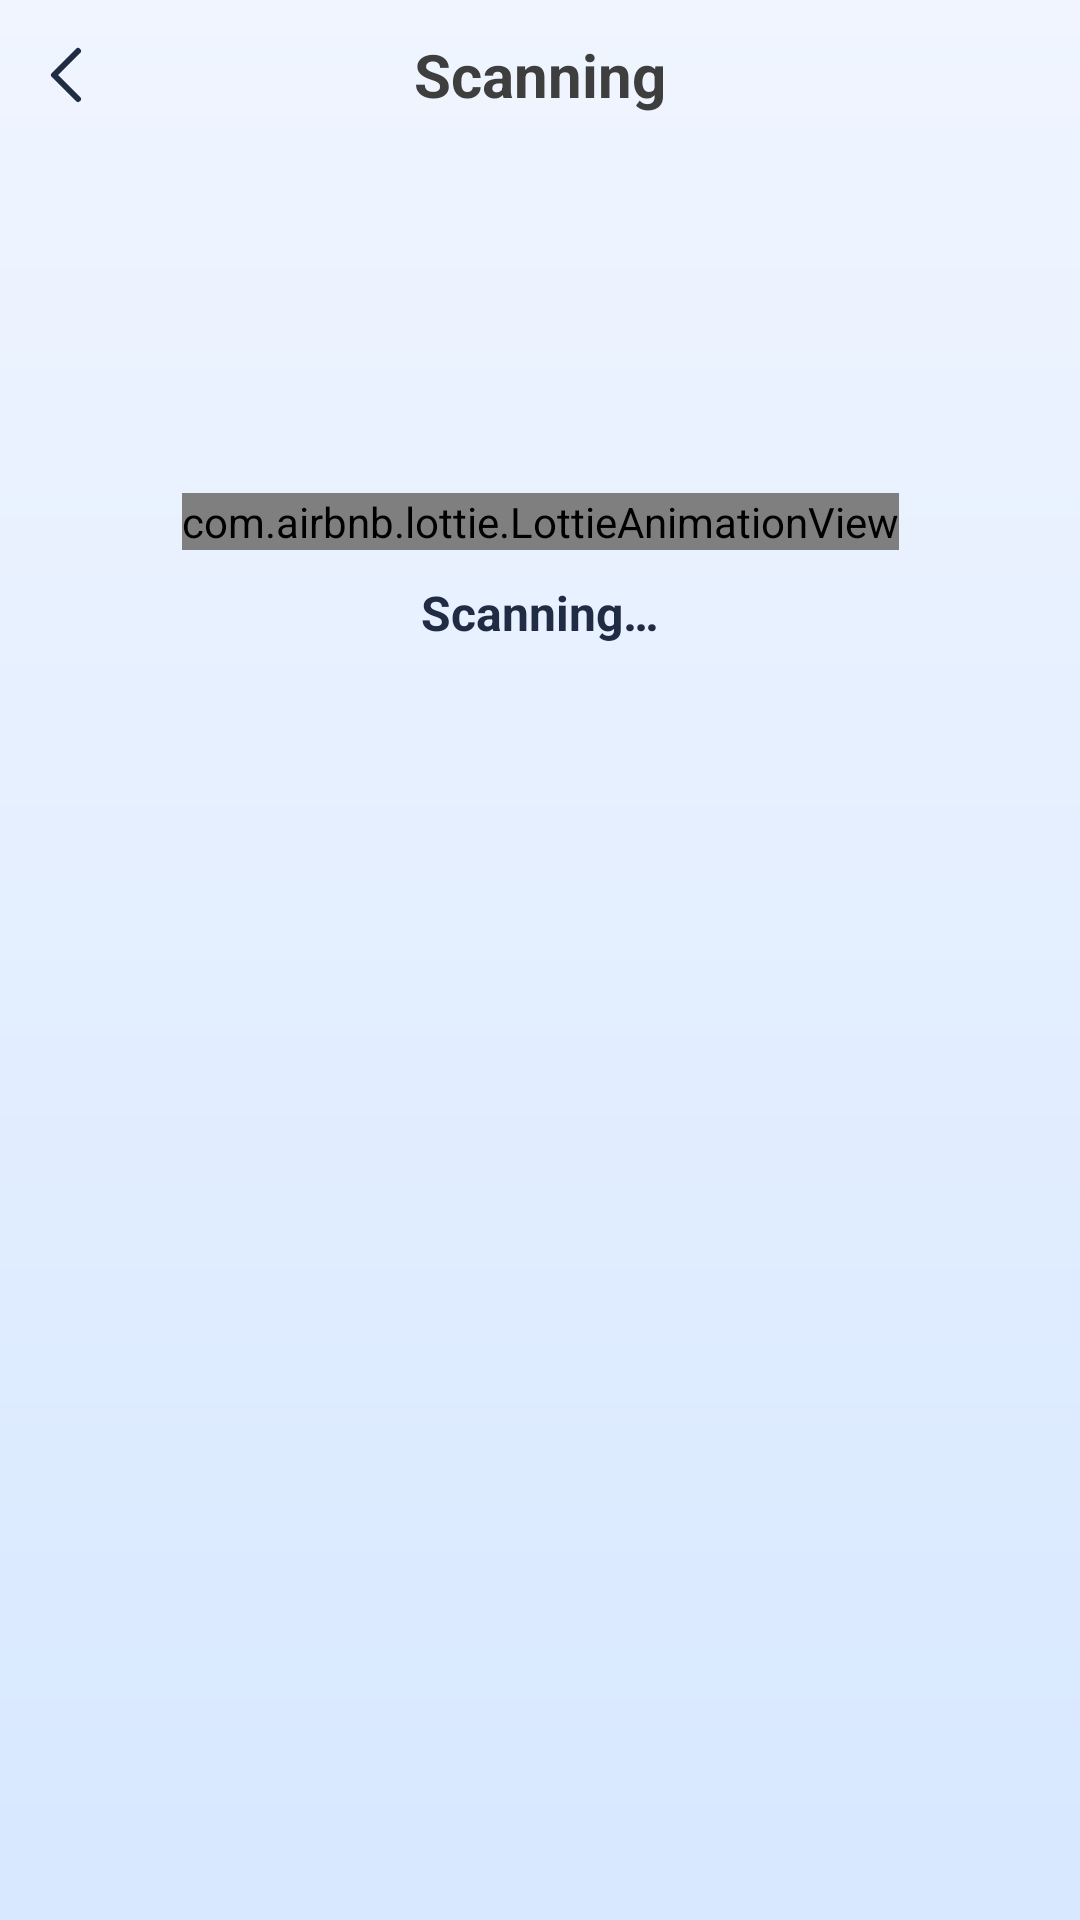

Icons on this 1080*1920 Android screen, each with its box as (x1, y1, x2, y2):
back: (51, 47, 81, 102)
